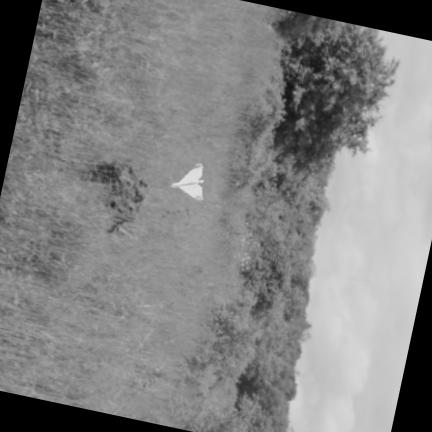Shahed: (170, 164, 203, 200)
